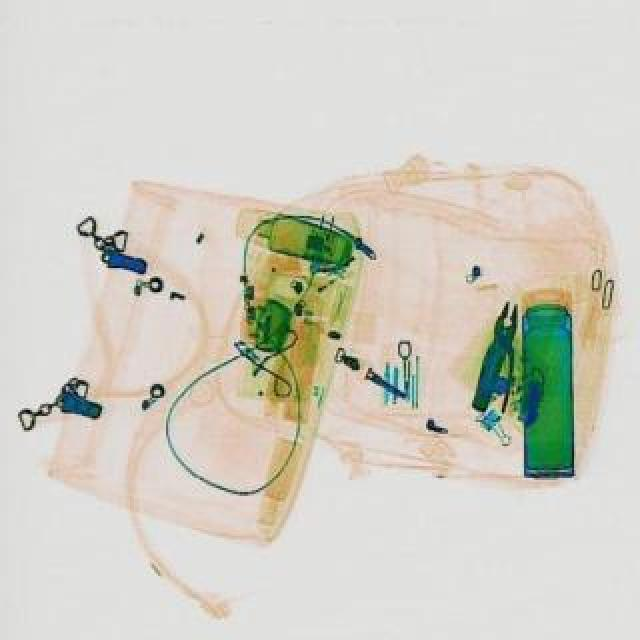wrench: (472, 300, 524, 412)
